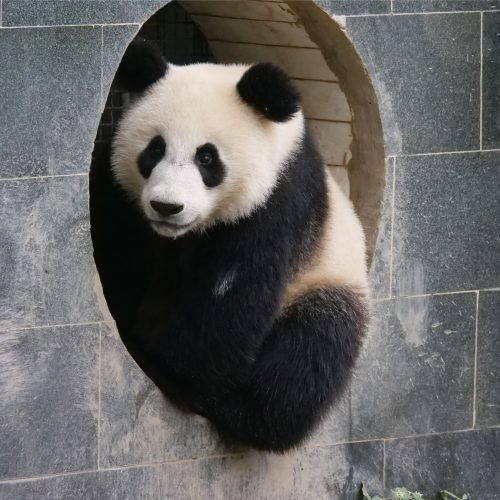Giant panda: (110, 49, 304, 239)
